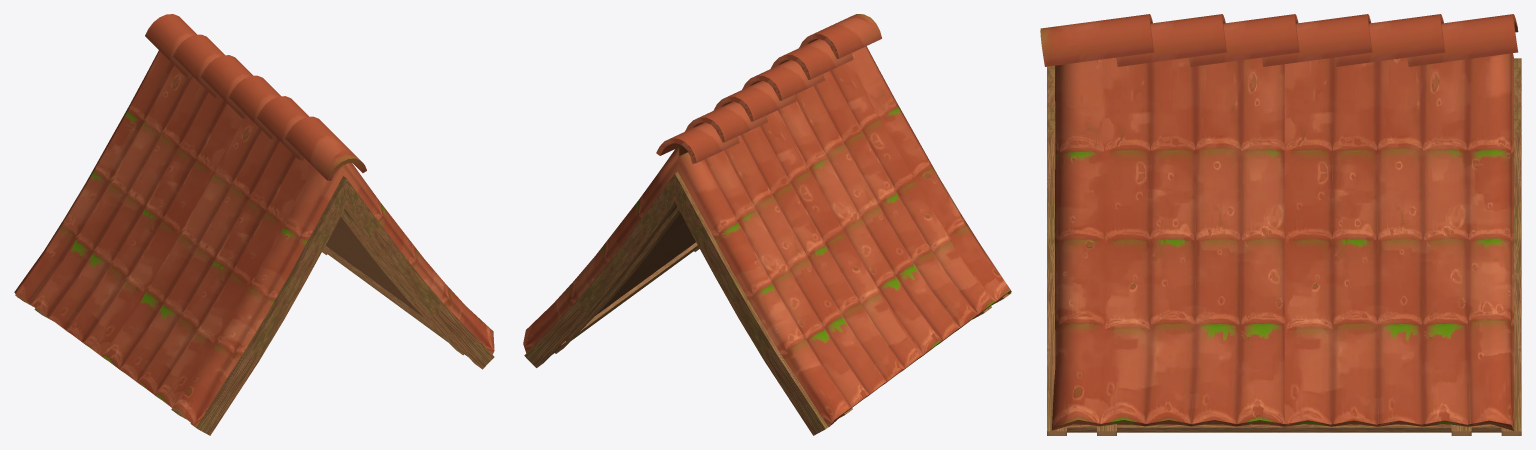
Rendered from roof_roundtiles_4x4.glb.
3 renders of one model, left to right at view 1: azimuth 30°, elevation 25°; view 2: azimuth 150°, elevation 25°; view 3: azimuth 270°, elevation 25°, orthographic. The views are drawn at different scales.
Bounding box in the file's own units: 5.51 × 4.25 × 5.56.
Materials: 2 (2 with a texture image).
